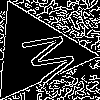W: (11, 27, 80, 89)
